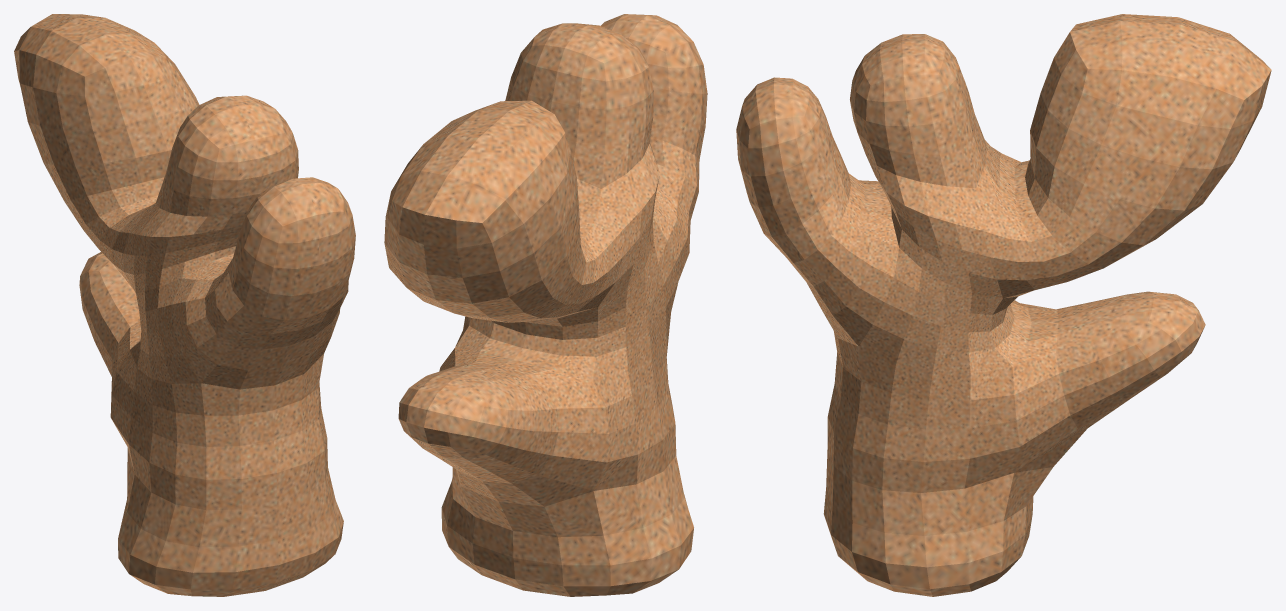
The model's file is Luya.glb.
3 renders of one model, left to right at view 1: azimuth 30°, elevation 25°; view 2: azimuth 150°, elevation 25°; view 3: azimuth 270°, elevation 25°, orthographic. The views are drawn at different scales.
Parts seen in each view (by area): view 1: Luyo; view 2: Luyo; view 3: Luyo.
Boxes of the visible parts, left/top/right/bottom form: Luyo: left=14, top=14, right=355, bottom=596; Luyo: left=384, top=14, right=707, bottom=596; Luyo: left=736, top=14, right=1271, bottom=596.
Size of the model in its own units: 3.42 by 7.87 by 7.27.
Materials: 1 (1 with a texture image).
